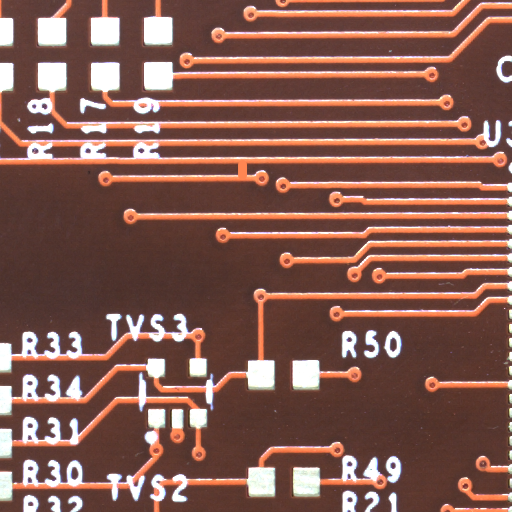Short: (242, 169, 256, 187)
